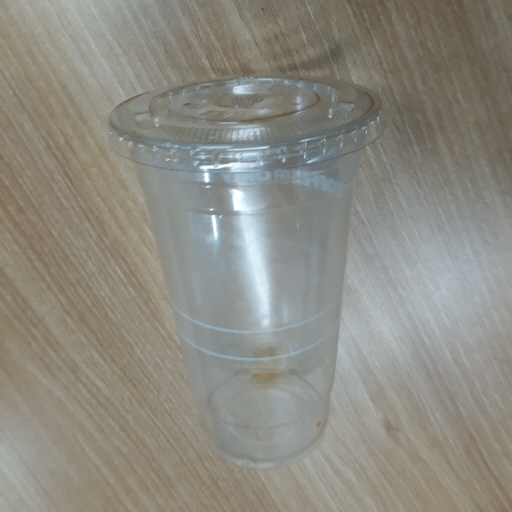Plastic_2: (104, 72, 385, 469)
